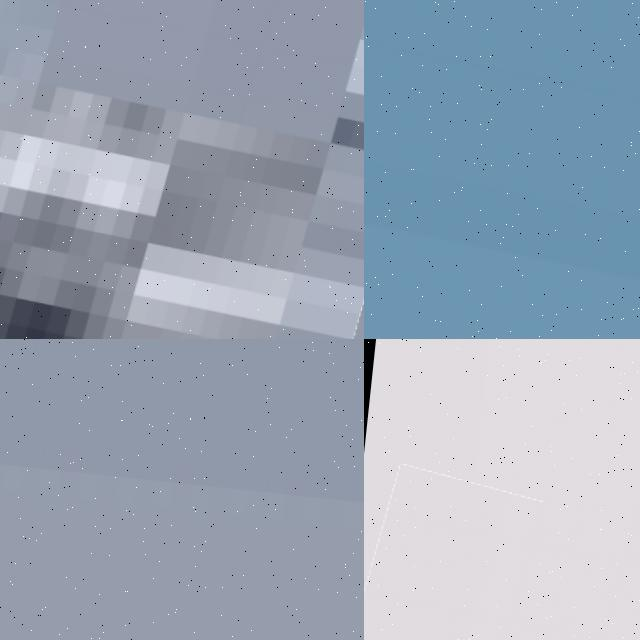drone: (0, 0, 364, 339), (364, 0, 640, 339), (364, 482, 640, 640)
